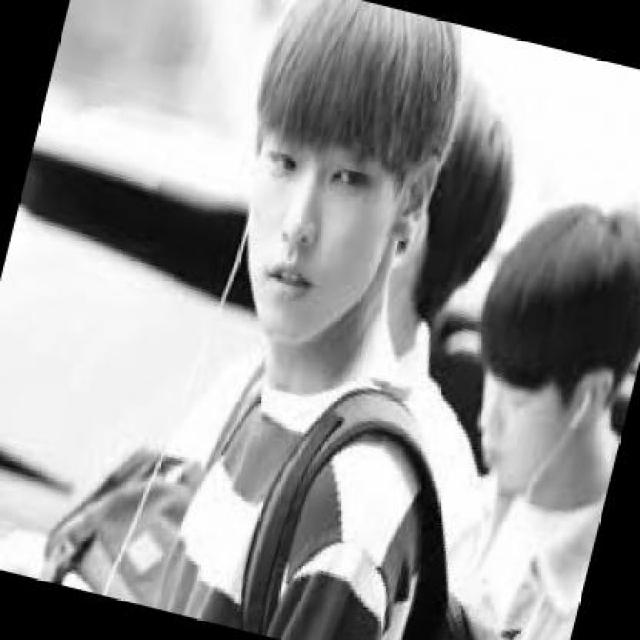earphone: (542, 378, 607, 480)
